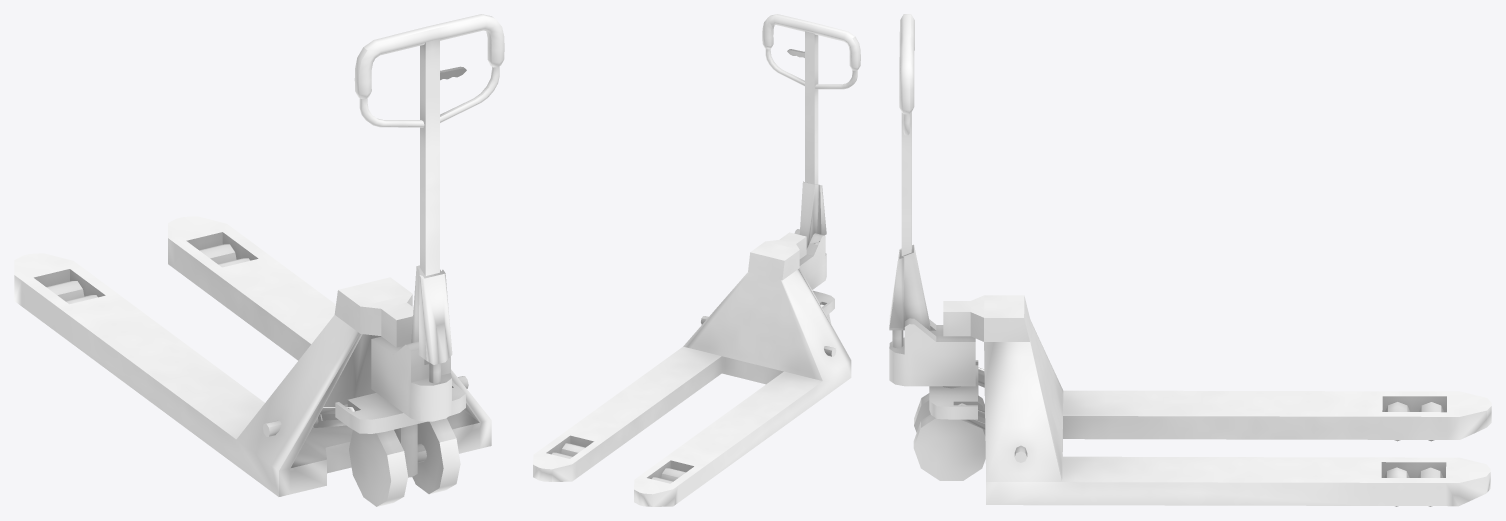
Rendered from PalletJack.glb.
3 views of the same model, side by side, from view 1: azimuth 30°, elevation 25°; view 2: azimuth 150°, elevation 25°; view 3: azimuth 270°, elevation 25° (orthographic). The views are drawn at different scales.
Parts seen in each view (by area): view 1: PalletJack, PalletJack.001; view 2: PalletJack, PalletJack.001; view 3: PalletJack, PalletJack.001.
Part boxes in pixels (<box>): PalletJack: <box>14,39,499,506</box>; PalletJack.001: <box>354,14,504,98</box>; PalletJack: <box>533,31,857,506</box>; PalletJack.001: <box>762,14,860,70</box>; PalletJack: <box>889,112,1491,506</box>; PalletJack.001: <box>899,14,914,114</box>.
Size of the model in its own units: 0.71 by 1.53 by 1.95.
Materials: 1 (1 with a texture image).
